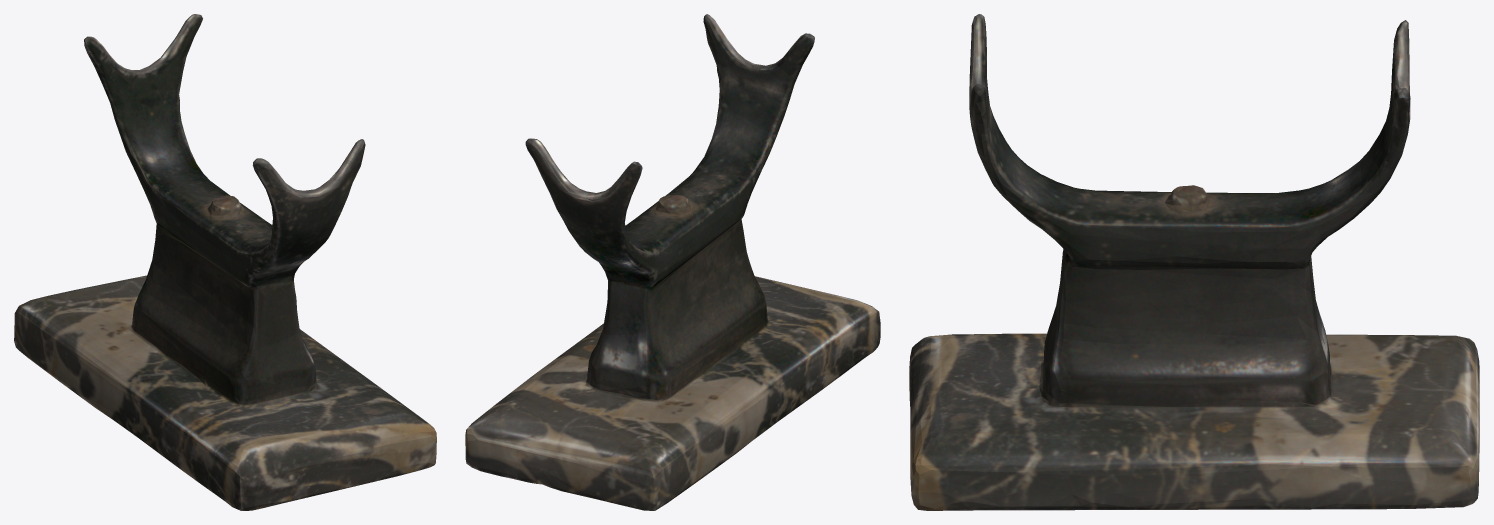
File: 22AFA8BD-2F82-4B40-9D7F-15DBDE55BE38_2k.glb
3 views of the same model, side by side, from view 1: azimuth 30°, elevation 25°; view 2: azimuth 150°, elevation 25°; view 3: azimuth 270°, elevation 25° (orthographic). The views are drawn at different scales.
Visible parts, largest first — view 1: Loetkolben_3k_2k; view 2: Loetkolben_3k_2k; view 3: Loetkolben_3k_2k.
Part boxes in pixels (box(x1,y1,x2,y2)): Loetkolben_3k_2k: box(14, 14, 436, 510); Loetkolben_3k_2k: box(465, 14, 880, 510); Loetkolben_3k_2k: box(909, 14, 1479, 510).
Bounding box in the file's own units: 0.0709 × 0.1095 × 0.1399.
Materials: 1 (1 with a texture image).
